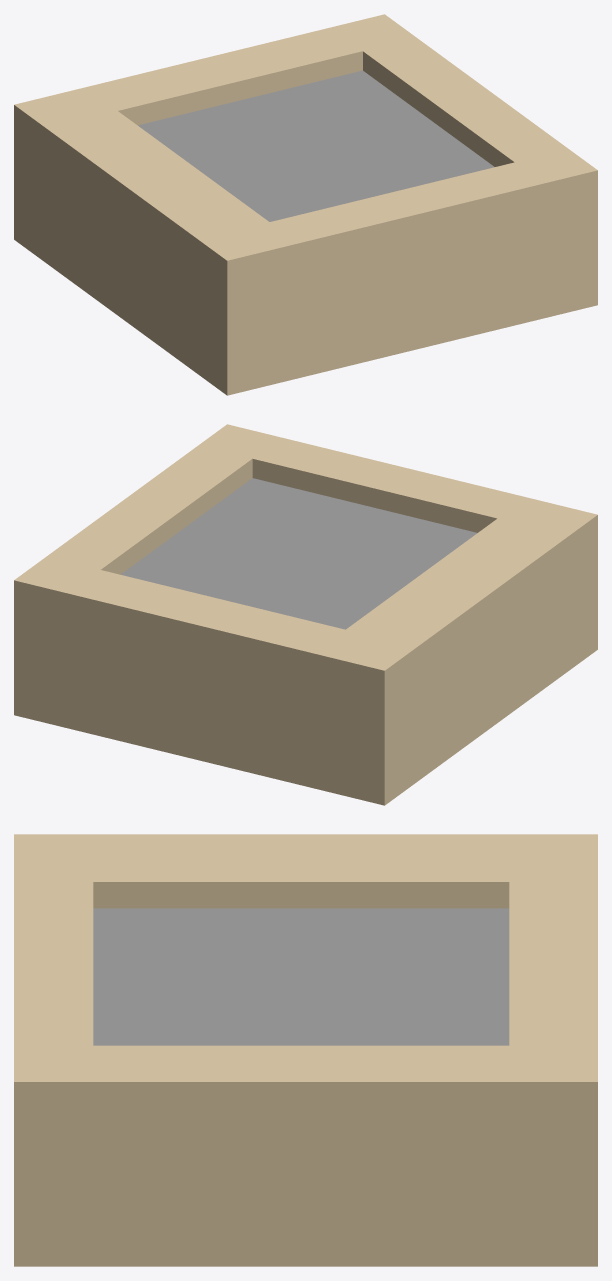
The model's file is garden3.fbx.
3 renders of one model, top to bottom at view 1: azimuth 30°, elevation 25°; view 2: azimuth 150°, elevation 25°; view 3: azimuth 270°, elevation 25°, orthographic. The views are drawn at different scales.
Visible parts, largest first — view 1: Cube; view 2: Cube; view 3: Cube.
Boxes of the visible parts, x1,y1,x2,y2 form: Cube: (14, 14, 597, 395); Cube: (14, 424, 597, 805); Cube: (14, 834, 597, 1266).
Size of the model in its own units: 31.46 by 10.94 by 31.34.
